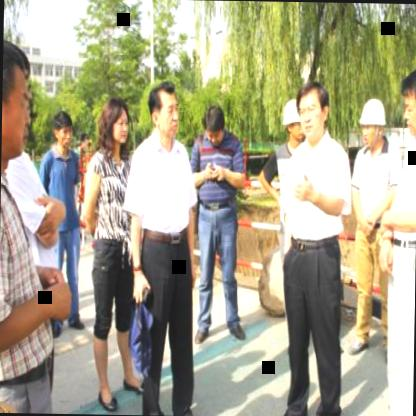head: (1, 39, 31, 171), (293, 79, 330, 140), (147, 80, 180, 142), (102, 97, 133, 155), (401, 64, 416, 138), (50, 109, 74, 155), (202, 101, 227, 144)
helmet: (356, 92, 386, 150), (278, 96, 303, 150)
